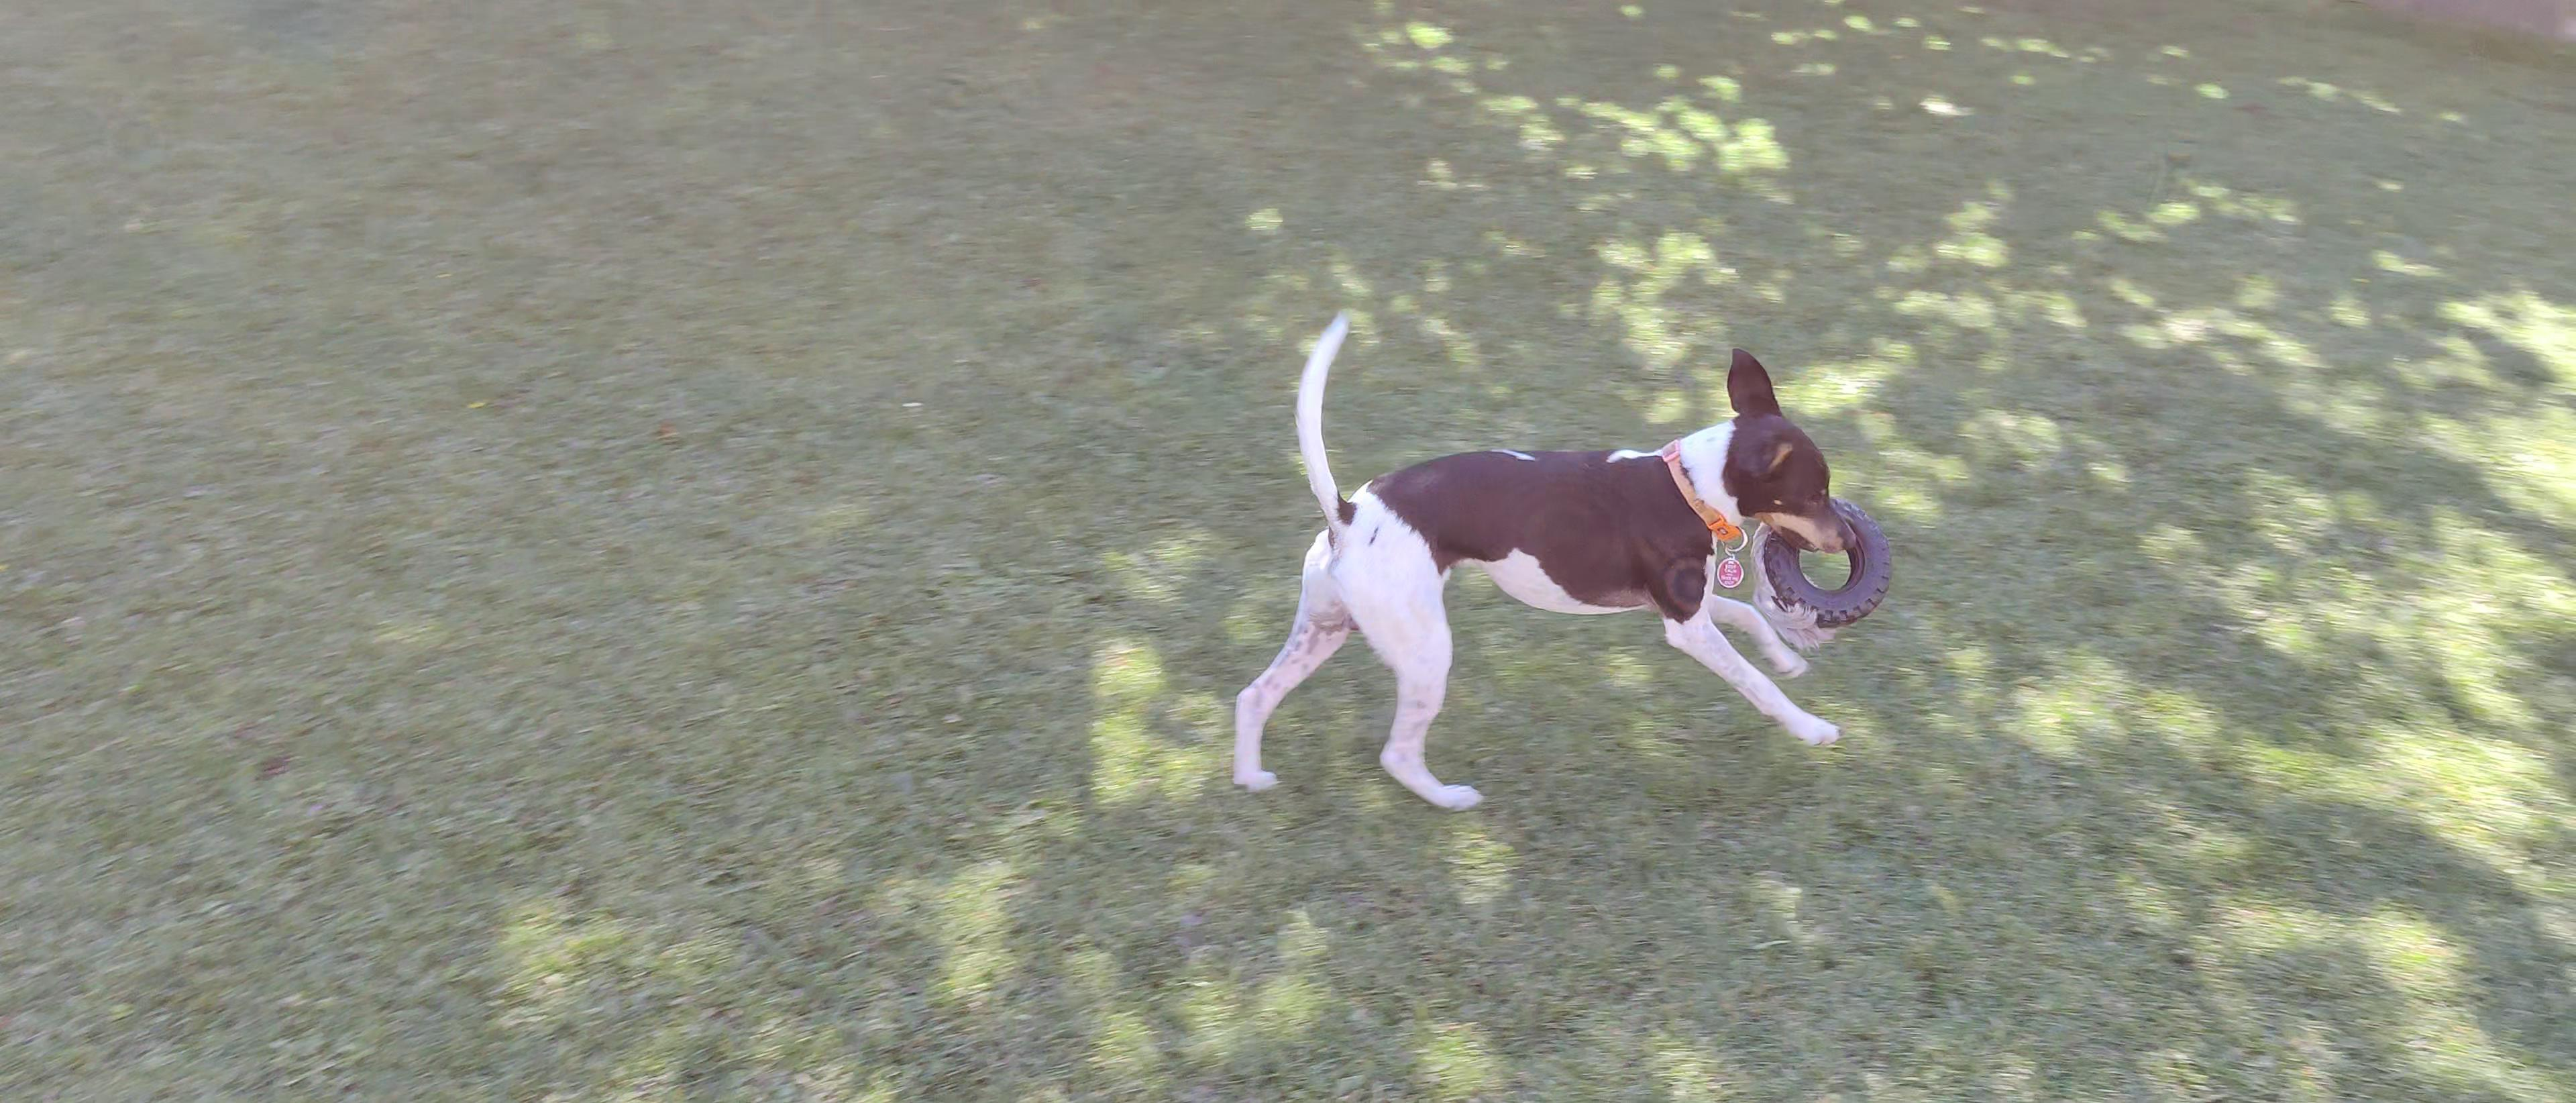Dog: (1222, 306, 1860, 810)
